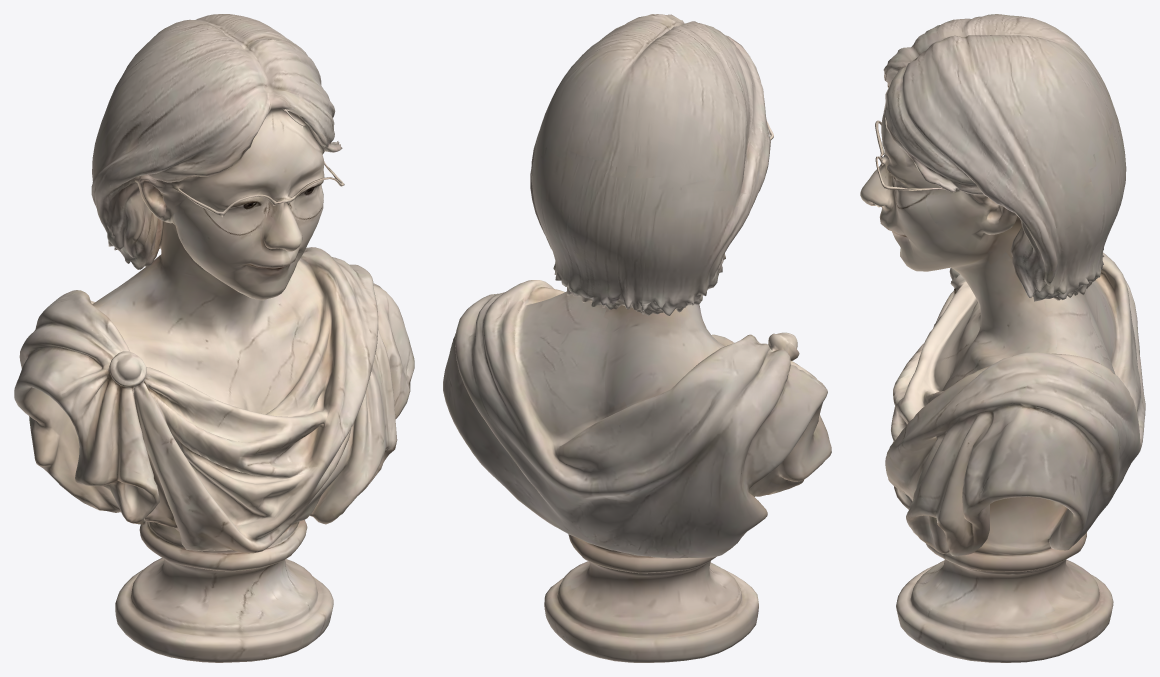
Rendered from 02_민하도.compressed.glb.
3 renders of one model, left to right at view 1: azimuth 30°, elevation 25°; view 2: azimuth 150°, elevation 25°; view 3: azimuth 270°, elevation 25°, orthographic.
Parts seen in each view (by area): view 1: model; view 2: model; view 3: model.
Part boxes in pixels (x1,y1,x2,y2): model: (14,14,414,662); model: (443,14,831,662); model: (860,14,1145,662).
Size of the model in its own units: 1.25 by 1.9 by 0.8281.
Materials: 1 (1 with a texture image).
